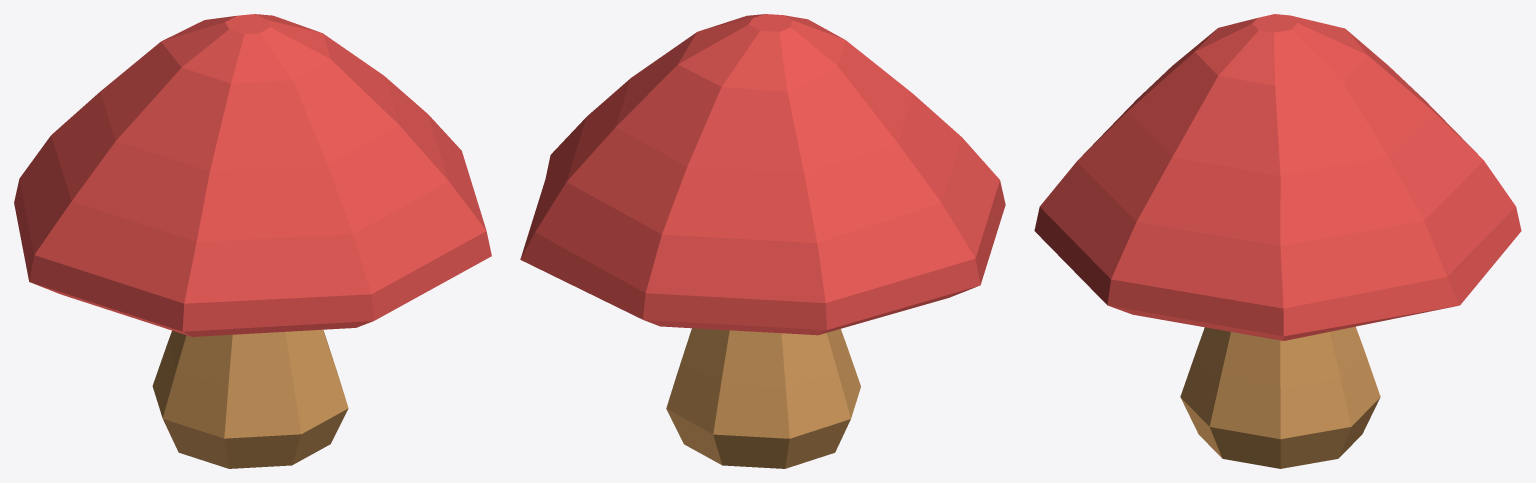
File: Mush2.fbx
The picture shows the model from 3 angles, left to right: view 1: azimuth 30°, elevation 25°; view 2: azimuth 150°, elevation 25°; view 3: azimuth 270°, elevation 25°; orthographic projection.
Visible parts, largest first — view 1: Icosphere.007; view 2: Icosphere.007; view 3: Icosphere.007.
Part boxes in pixels (x1,y1,x2,y2): Icosphere.007: (14,14,491,468); Icosphere.007: (520,14,1005,468); Icosphere.007: (1034,14,1521,468).
Size of the model in its own units: 169 by 153 by 165.
